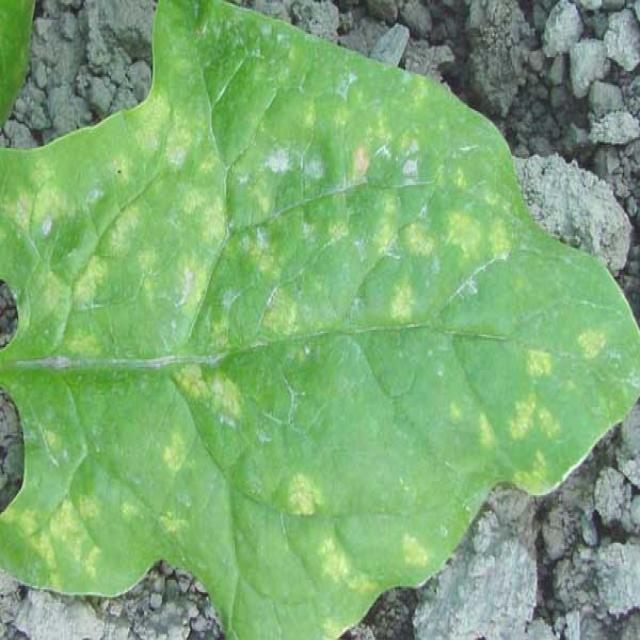rotten spinach: (1, 3, 640, 634)
